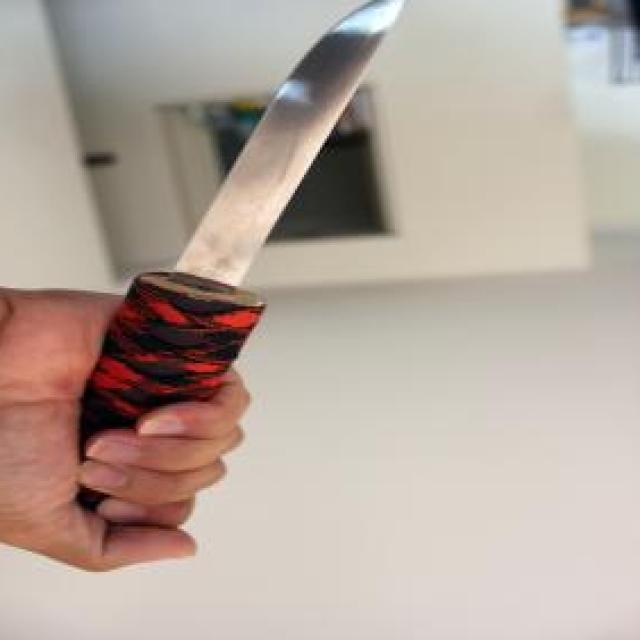knife: (27, 0, 447, 527)
